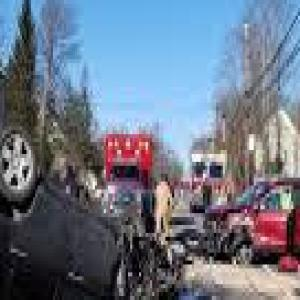serious: (0, 130, 181, 300)
